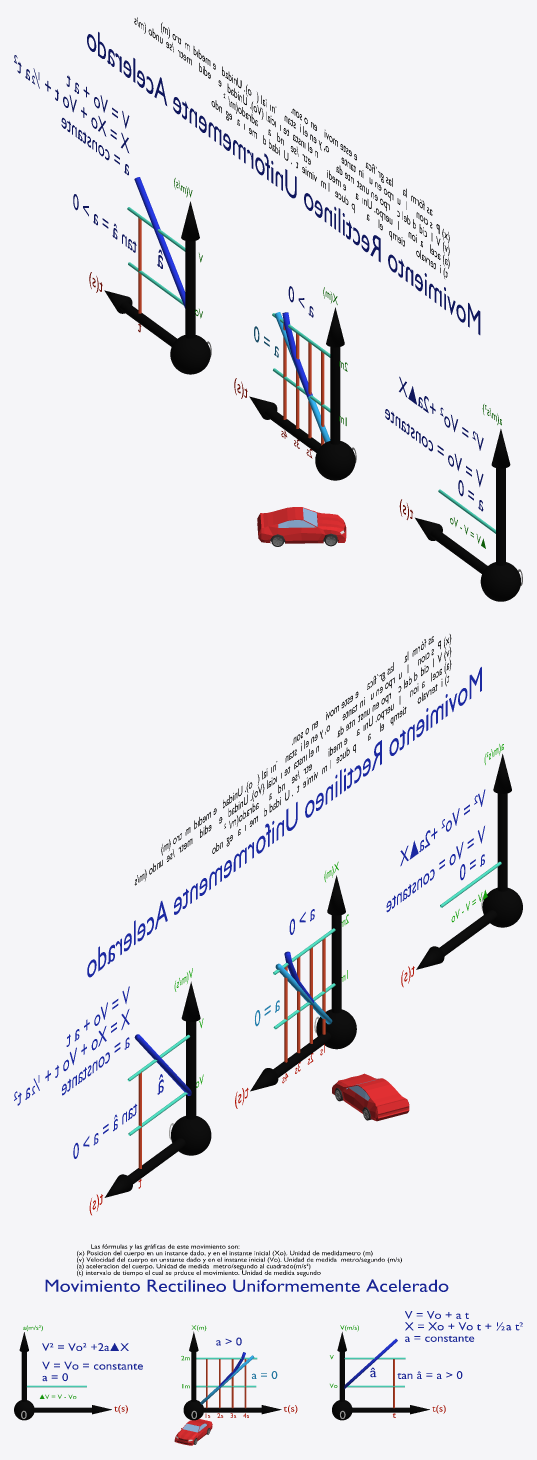
Rendered from 1_mrua_Txt_ Auto.fbx.
The picture shows the model from 3 angles, top to bottom: view 1: azimuth 30°, elevation 25°; view 2: azimuth 150°, elevation 25°; view 3: azimuth 270°, elevation 25°; orthographic projection. The views are drawn at different scales.
Visible parts, largest first — view 1: Text.008, Text.024, Cube, Sphere.002, Sphere.001, Sphere, Text.022, Cylinder, Cylinder.013, Cylinder.009, Cylinder.015, Cylinder.010 (+3 smaller); view 2: Text.008, Text.024, Cube, Text.022, Sphere.002, Sphere.001, Sphere, Cylinder.009, Cylinder, Cylinder.013, Cylinder.010, Cylinder.014 (+2 smaller); view 3: Text.008, Text.024, Cube, Text.022, Text.011, Cylinder.010, Cylinder.014, Cylinder.001, Sphere.001, Sphere.002, Sphere, Cylinder (+3 smaller).
Boxes of the visible parts, x1,y1,x2,y2 form: Text.008: (134, 17, 449, 278); Text.024: (87, 32, 480, 334); Cube: (257, 507, 346, 546); Sphere.002: (170, 335, 210, 374); Sphere.001: (480, 562, 520, 601); Sphere: (315, 441, 355, 480); Text.022: (14, 55, 129, 175); Cylinder: (330, 347, 340, 444); Cylinder.013: (185, 241, 195, 338); Cylinder.009: (496, 468, 505, 565); Cylinder.015: (134, 177, 185, 308); Cylinder.010: (430, 528, 487, 573); Text.008: (134, 634, 451, 885); Text.024: (87, 667, 481, 977); Cube: (332, 1073, 409, 1121); Text.022: (14, 986, 129, 1105); Sphere.002: (171, 1116, 211, 1155); Sphere.001: (482, 887, 522, 927); Sphere: (316, 1009, 356, 1049); Cylinder.009: (497, 793, 507, 891); Cylinder: (331, 915, 341, 1013); Cylinder.013: (186, 1021, 196, 1119); Cylinder.010: (439, 910, 497, 956); Cylinder.014: (128, 1138, 185, 1183); Text.008: (77, 1244, 401, 1276); Text.024: (45, 1279, 448, 1291); Cube: (174, 1419, 212, 1445); Text.022: (405, 1311, 522, 1341); Text.011: (42, 1361, 142, 1381); Cylinder.010: (34, 1407, 91, 1412); Cylinder.014: (352, 1407, 409, 1412); Cylinder.001: (204, 1407, 261, 1412); Sphere.001: (14, 1400, 34, 1420); Sphere.002: (332, 1400, 352, 1420); Sphere: (183, 1400, 203, 1420); Cylinder: (191, 1352, 196, 1401).
Bounding box in the file's own units: 535 × 2147 × 4917.
